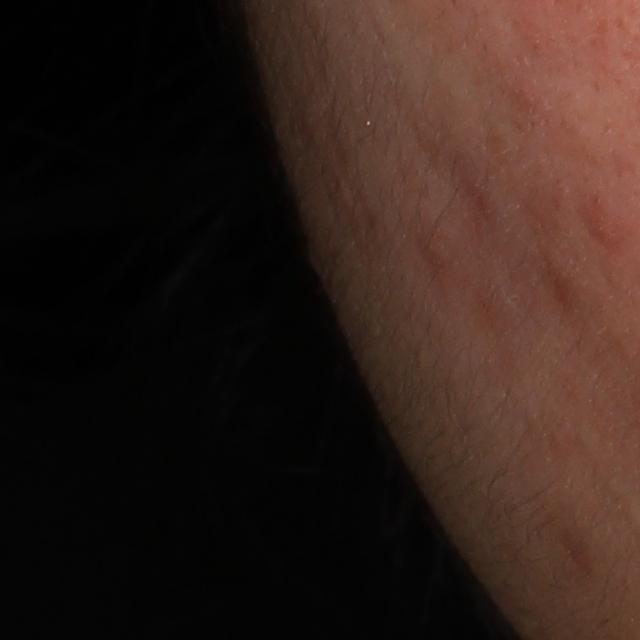papule: (582, 199, 636, 247)
